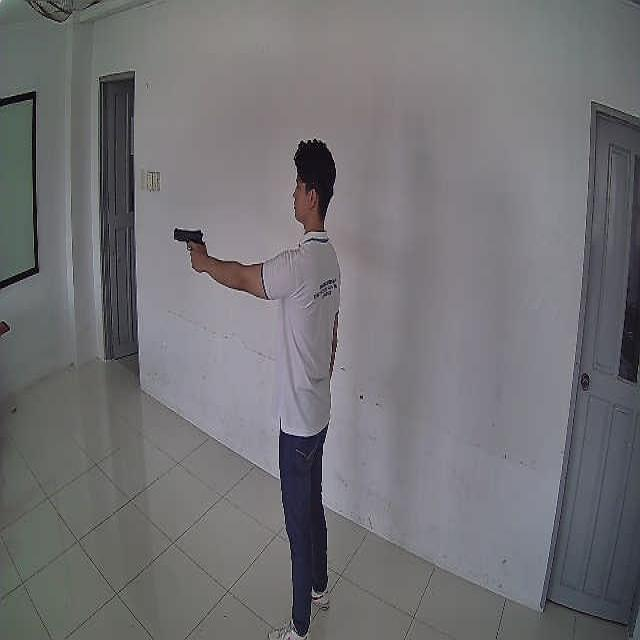pistol: (174, 230, 204, 250)
